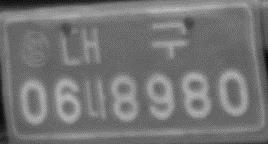0: (218, 68, 251, 116), (18, 79, 49, 124)
6: (54, 76, 82, 124)
8: (179, 71, 212, 119), (109, 72, 139, 122)
9: (144, 71, 177, 120)
나: (83, 77, 110, 123)
대구_D: (57, 18, 190, 66)
영: (18, 31, 56, 69)
